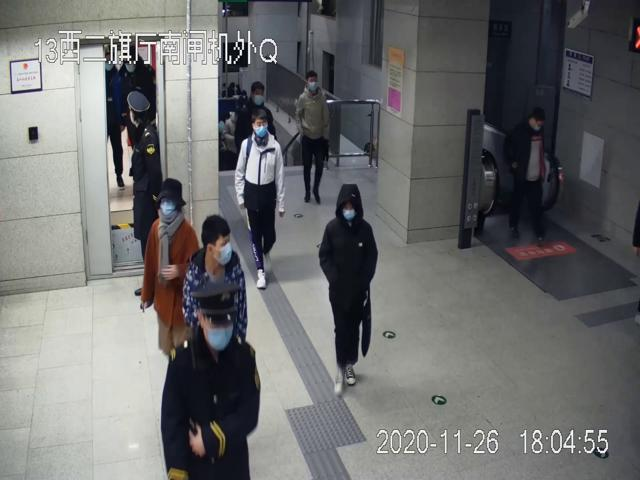person: (163, 281, 262, 480), (320, 183, 379, 394), (142, 180, 204, 353), (235, 111, 285, 289), (126, 90, 166, 308), (183, 215, 251, 337), (296, 70, 331, 205)
